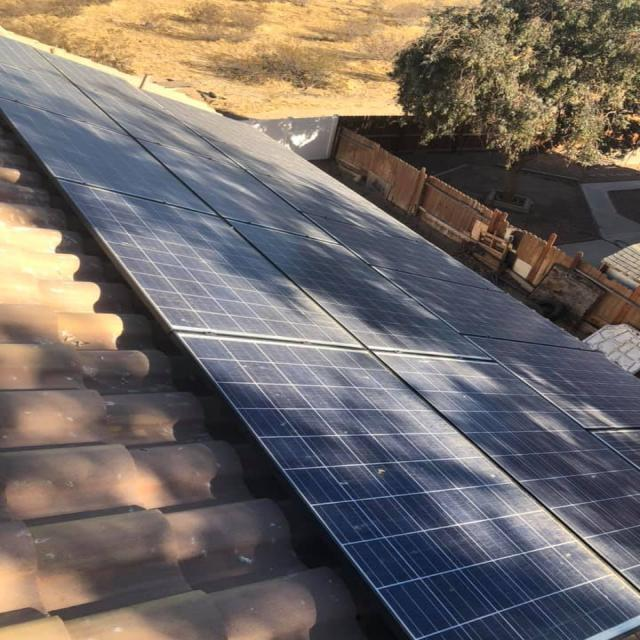Anomaly Solar Panel: (175, 330, 640, 639), (372, 352, 640, 590), (57, 179, 365, 348), (227, 217, 495, 362), (1, 97, 220, 217), (34, 45, 240, 167), (133, 136, 338, 244), (0, 36, 130, 136)
Surface Contaminant: (392, 378, 639, 612), (140, 89, 423, 240), (31, 46, 243, 169), (280, 267, 367, 347)
